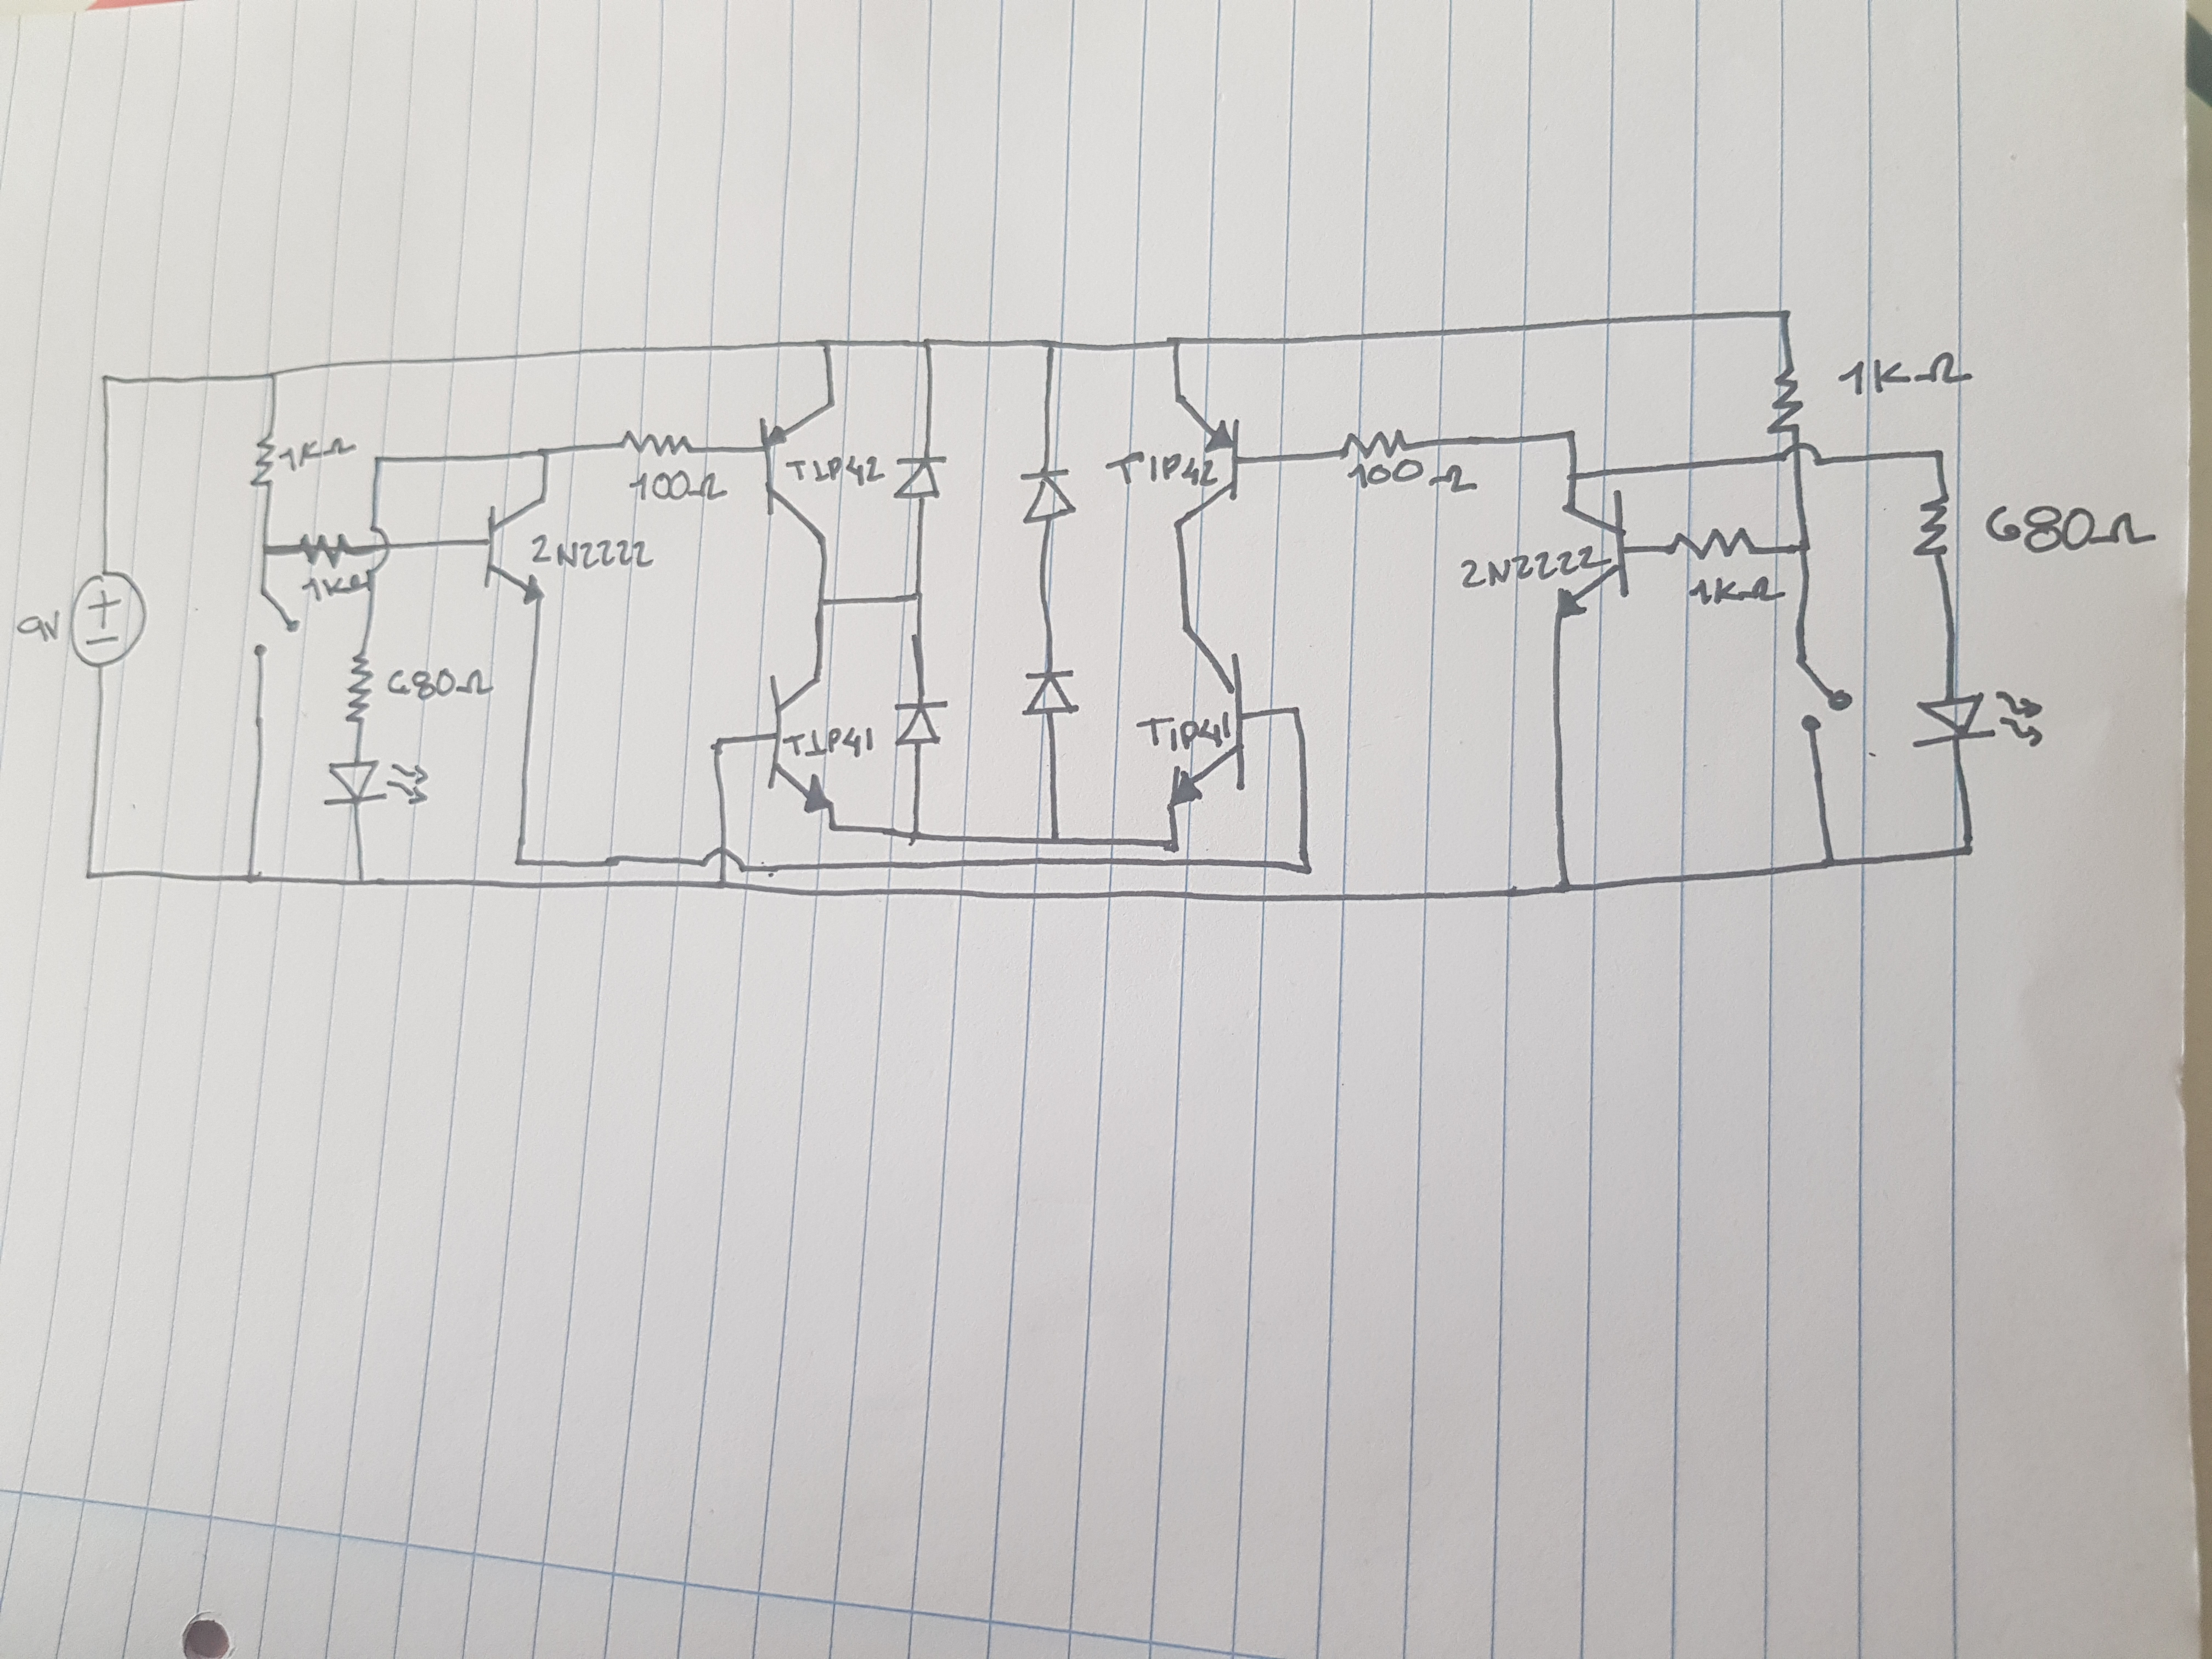crossover: (366, 523, 394, 579), (1778, 441, 1827, 471), (698, 849, 749, 873)
diode: (1014, 462, 1082, 526), (885, 699, 954, 755), (1017, 666, 1083, 721), (890, 453, 954, 507)
diode.light_emitting: (1907, 681, 2048, 755), (312, 756, 435, 814)
junction: (1287, 854, 1327, 880), (1954, 835, 1984, 863), (77, 859, 105, 889), (1550, 875, 1580, 901), (348, 868, 376, 894), (94, 366, 118, 396), (1926, 441, 1952, 465), (1792, 537, 1818, 561), (707, 732, 733, 756), (1773, 301, 1799, 324), (509, 849, 535, 871), (239, 863, 261, 889), (1818, 852, 1843, 875), (1167, 331, 1195, 350), (815, 333, 838, 356), (533, 443, 557, 464), (256, 537, 277, 561), (366, 450, 392, 469), (810, 587, 831, 610), (1559, 427, 1585, 444), (1559, 471, 1587, 486), (1285, 701, 1308, 720), (920, 333, 941, 352), (907, 586, 928, 605), (904, 826, 925, 845), (1162, 836, 1184, 854), (1045, 830, 1064, 849), (714, 875, 732, 896), (1043, 336, 1061, 356), (265, 366, 282, 385)
resistor: (1667, 519, 1759, 565), (1909, 491, 1958, 566), (611, 423, 697, 460), (1770, 359, 1806, 443), (1332, 427, 1420, 462), (340, 645, 376, 727), (293, 528, 355, 573), (246, 429, 280, 493)
switch: (1789, 650, 1855, 741), (249, 586, 303, 662)
text: (1986, 495, 2158, 554), (1449, 544, 1615, 592), (1838, 350, 1975, 394), (1099, 446, 1219, 495), (531, 530, 658, 573), (1345, 462, 1482, 498), (1134, 716, 1238, 758), (385, 666, 498, 702), (1684, 570, 1787, 608), (627, 469, 732, 505), (782, 455, 885, 490), (780, 725, 874, 762), (277, 432, 357, 472), (12, 606, 63, 648), (301, 577, 361, 601)
transistor: (1167, 619, 1259, 814), (752, 397, 846, 544), (1547, 483, 1635, 631), (1169, 387, 1245, 537), (765, 669, 840, 816), (481, 490, 554, 612)
voltage.dc: (66, 563, 152, 673)
